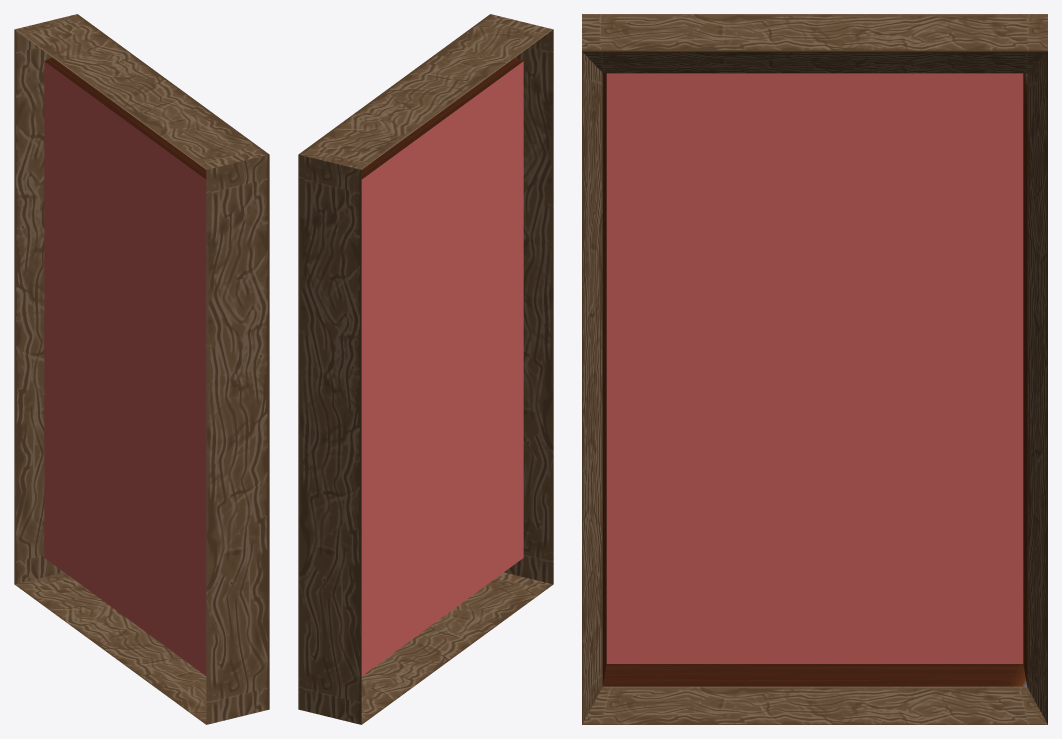
File: Sagi_Frame_Art.fbx
The picture shows the model from 3 angles, left to right: view 1: azimuth 30°, elevation 25°; view 2: azimuth 150°, elevation 25°; view 3: azimuth 270°, elevation 25°; orthographic projection. The views are drawn at different scales.
Parts seen in each view (by area): view 1: Frame; view 2: Frame; view 3: Frame.
Boxes of the visible parts, x1,y1,x2,y2 form: Frame: (14,14,269,724); Frame: (298,14,553,724); Frame: (582,14,1047,724).
Size of the model in its own units: 44.17 by 371 by 232.
